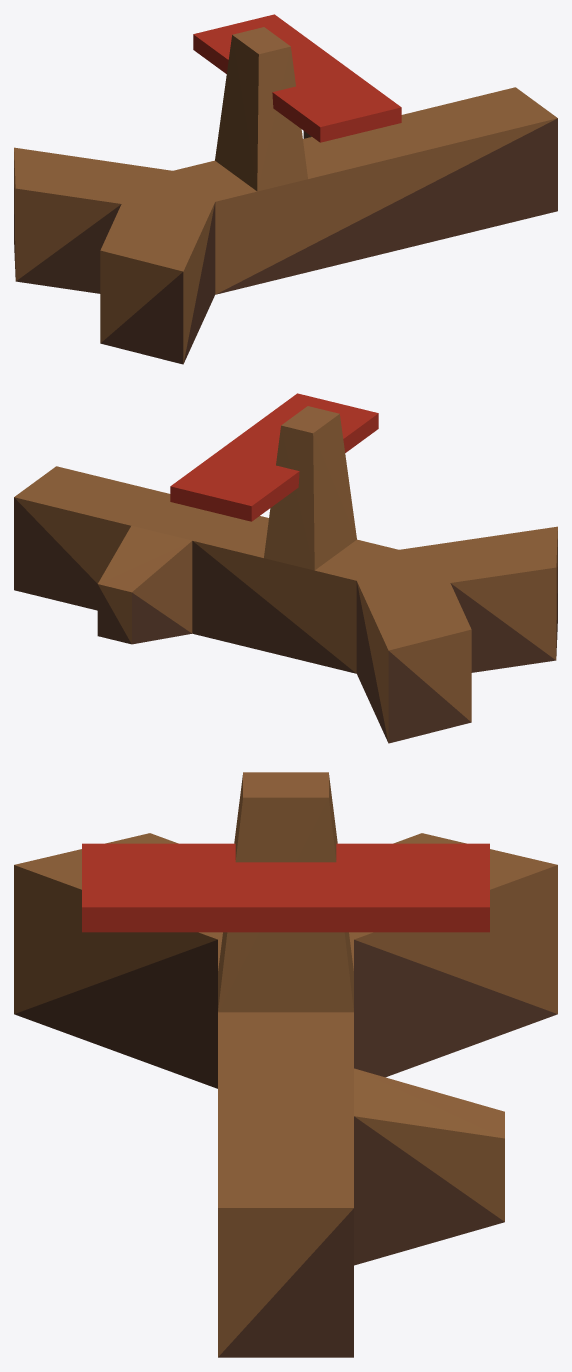
File: scrap-logs-coral.glb
3 views of the same model, one above another, from view 1: azimuth 30°, elevation 25°; view 2: azimuth 150°, elevation 25°; view 3: azimuth 270°, elevation 25° (orthographic). The views are drawn at different scales.
Visible parts, largest first — view 1: scrap-logs-coral; view 2: scrap-logs-coral; view 3: scrap-logs-coral.
Boxes of the visible parts, x1=… form: scrap-logs-coral: x1=14, y1=14, x2=557, y2=364; scrap-logs-coral: x1=14, y1=393, x2=557, y2=743; scrap-logs-coral: x1=14, y1=772, x2=557, y2=1357.
Bounding box in the file's own units: 1.24 × 0.55 × 0.76.
